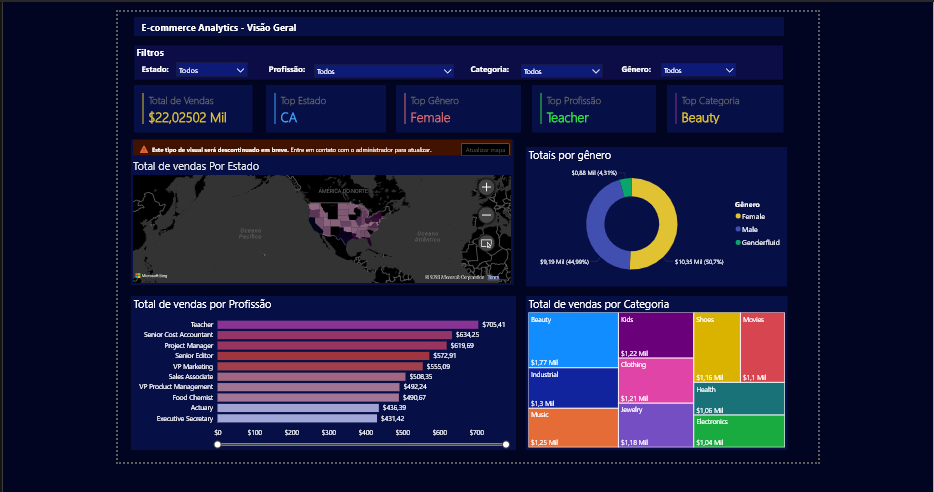

The page's visual inventory and layout, read from the dashboard file:
{"tool":"powerbi","page":{"name":"Página 1","canvas":[1400,900],"ordinal":1},"visuals":[{"type":"filledMap","title":"Total de vendas Por Estado","fields":{"Category":["dados_ecommerce_final.country","dados_ecommerce_final.state_name"]},"box":[23.6,254.2,769.4,294.4],"z":0},{"type":"donutChart","title":"Totais por gênero","fields":{"Category":["dados_ecommerce_final.Gender"],"Y":["Sum(dados_ecommerce_final.Price)"]},"box":[815.3,269.4,522.2,279.2],"z":1000},{"type":"treemap","title":"Total de vendas por Categoria","fields":{"Group":["dados_ecommerce_final.Category"],"Values":["Sum(dados_ecommerce_final.Price)"]},"box":[815,567.5,522.5,307.5],"z":2000},{"type":"clusteredBarChart","title":"Total de vendas por Profissão","fields":{"Category":["dados_ecommerce_final.Job_Title"],"Y":["Sum(dados_ecommerce_final.Price)"]},"box":[25,567.5,770,307.5],"z":3000},{"type":"shape","box":[31,10,1300,38],"z":4000},{"type":"textbox","box":[41,11,510,48],"z":5000},{"type":"shape","box":[23.3,58.3,1315,86.7],"z":6000},{"type":"slicer","fields":{"Values":["dados_ecommerce_final.state_name"]},"box":[105,90,162.5,45],"z":7000},{"type":"textbox","box":[41.7,98.3,76.7,36.7],"z":8000},{"type":"slicer","fields":{"Values":["dados_ecommerce_final.Job_Title"]},"box":[381.2,93.8,300,43.8],"z":9000},{"type":"textbox","box":[296.2,98.8,91.2,36.2],"z":10000},{"type":"slicer","fields":{"Values":["dados_ecommerce_final.Category"]},"box":[795,93.8,182.5,43.8],"z":11000},{"type":"textbox","box":[31.7,61.7,155,36.7],"z":12000},{"type":"textbox","box":[700,97.5,95,36.2],"z":13000},{"type":"slicer","fields":{"Values":["dados_ecommerce_final.Gender"]},"box":[1076.2,91.2,170,51.2],"z":14000},{"type":"textbox","box":[1002.5,98.8,95,36.2],"z":15000},{"type":"cardVisual","title":"Total de Vendas","fields":{"Data":["Sum(dados_ecommerce_final.Price)"]},"box":[31.7,145,236.7,95],"z":16000},{"type":"cardVisual","title":"Total de Vendas","fields":{"Data":["dados_ecommerce_final.Top_Estado"]},"box":[296.7,145,240,95],"z":17000},{"type":"cardVisual","title":"Total de Vendas","fields":{"Data":["dados_ecommerce_final.Top_Genero"]},"box":[556.7,145,250,95],"z":18000},{"type":"cardVisual","title":"Total de Vendas","fields":{"Data":["dados_ecommerce_final.Top_Job"]},"box":[828.3,145,248.3,95],"z":19000},{"type":"cardVisual","title":"Total de Vendas","fields":{"Data":["dados_ecommerce_final.Top_Categoria"]},"box":[1098.3,145,233.3,95],"z":20000},{"type":"pageNavigator","box":[1107.1,14.3,215.7,28.6],"z":20001}]}

Visuals, with their boxes on the page's 1400x900 design canvas (x1, y1, x2, y2). These are canvas units, not pixel positions in the 934x492 screenshot, which may show the page scaled, cropped or inside an application window:
"Total de vendas Por Estado" filledMap: 24, 254, 793, 549
"Totais por gênero" donutChart: 815, 269, 1338, 549
"Total de vendas por Categoria" treemap: 815, 568, 1338, 875
"Total de vendas por Profissão" clusteredBarChart: 25, 568, 795, 875
shape: 31, 10, 1331, 48
textbox: 41, 11, 551, 59
shape: 23, 58, 1338, 145
slicer - dados_ecommerce_final.state_name: 105, 90, 268, 135
textbox: 42, 98, 118, 135
slicer - dados_ecommerce_final.Job_Title: 381, 94, 681, 138
textbox: 296, 99, 387, 135
slicer - dados_ecommerce_final.Category: 795, 94, 978, 138
textbox: 32, 62, 187, 98
textbox: 700, 98, 795, 134
slicer - dados_ecommerce_final.Gender: 1076, 91, 1246, 142
textbox: 1002, 99, 1098, 135
"Total de Vendas" cardVisual: 32, 145, 268, 240
"Total de Vendas" cardVisual: 297, 145, 537, 240
"Total de Vendas" cardVisual: 557, 145, 807, 240
"Total de Vendas" cardVisual: 828, 145, 1077, 240
"Total de Vendas" cardVisual: 1098, 145, 1332, 240
pageNavigator: 1107, 14, 1323, 43
